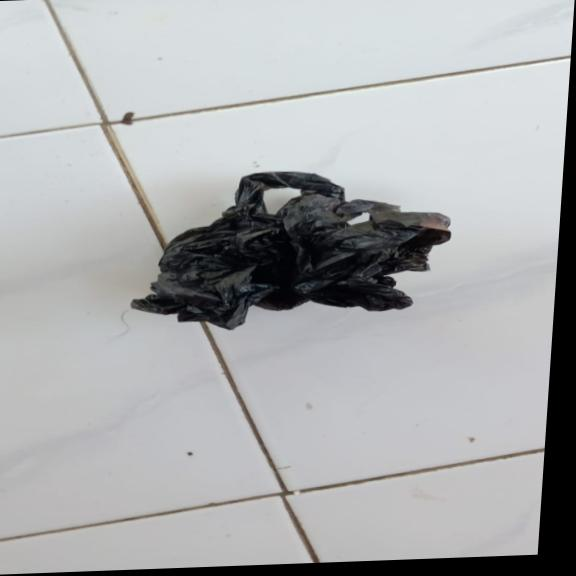Plastik: (127, 163, 457, 333)
